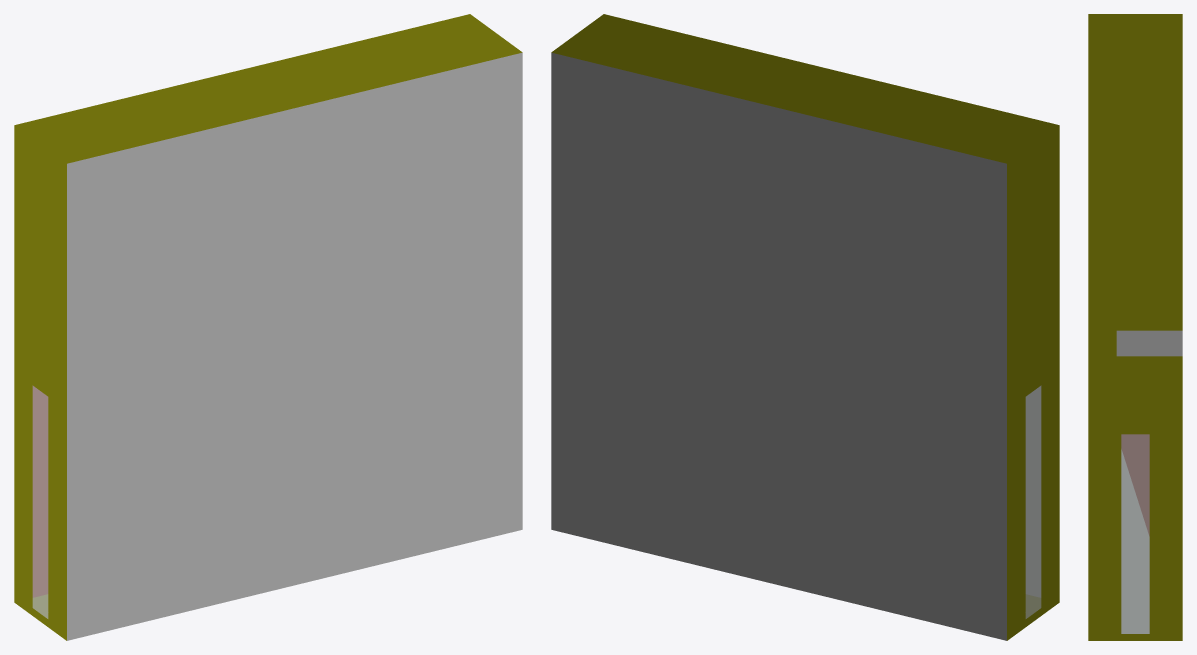
Rendered from idf.obj.
The picture shows the model from 3 angles, left to right: view 1: azimuth 30°, elevation 25°; view 2: azimuth 150°, elevation 25°; view 3: azimuth 270°, elevation 25°; orthographic projection. The views are drawn at different scales.
Bounding box in the file's own units: 15.24 × 15.24 × 3.05.
